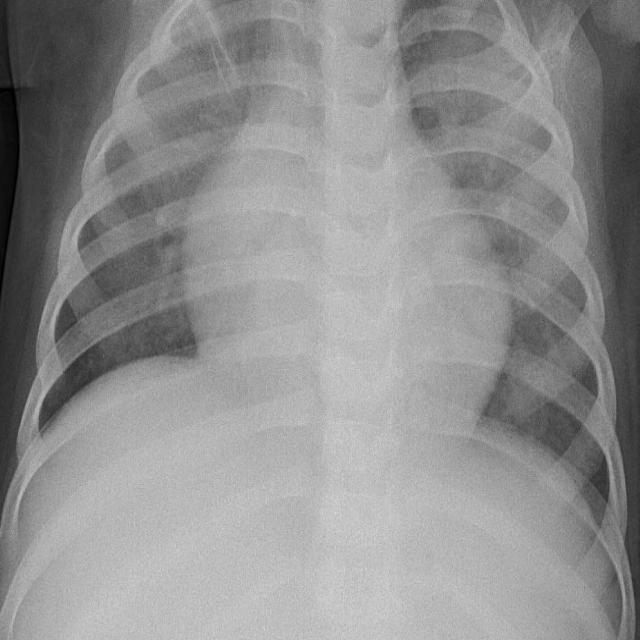low-pneumonia: (430, 13, 552, 243), (154, 23, 247, 153)
